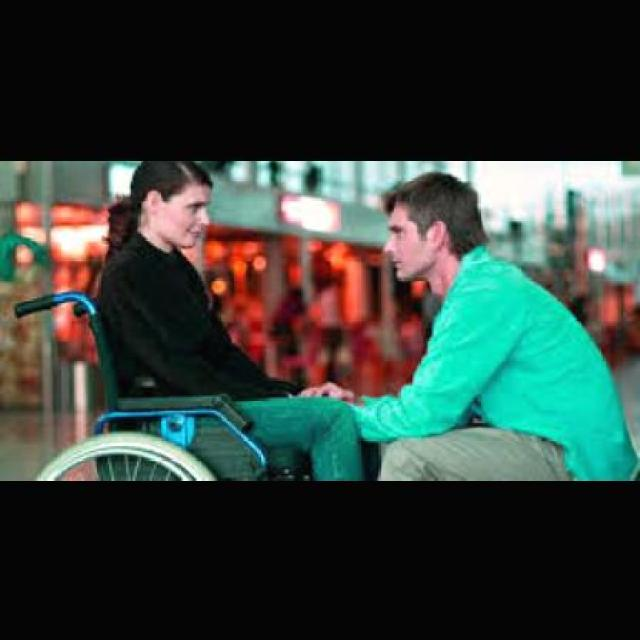wheelchairs: (1, 285, 359, 476)
